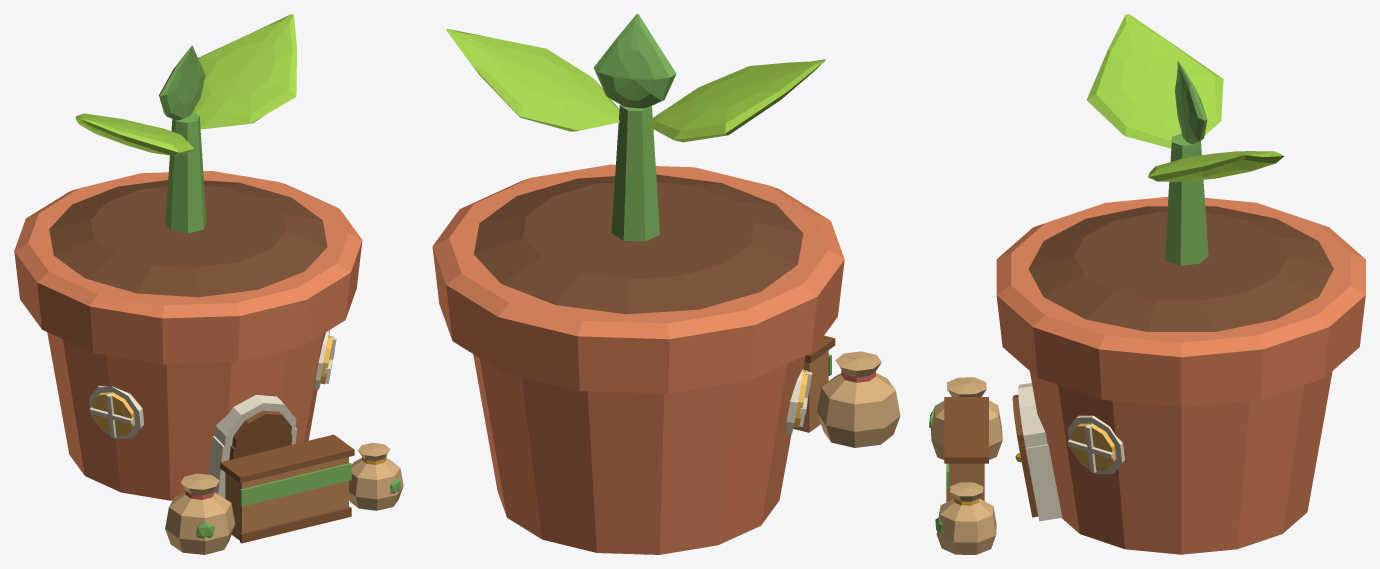
The model's file is shop_seeds.glb.
The picture shows the model from 3 angles, left to right: view 1: azimuth 30°, elevation 25°; view 2: azimuth 150°, elevation 25°; view 3: azimuth 270°, elevation 25°; orthographic projection. The views are drawn at different scales.
Visible parts, largest first — view 1: shop_seeds, counter; view 2: shop_seeds, counter; view 3: shop_seeds, counter.
Part boxes in pixels (box(x1,y1,x2,y2)): shop_seeds: box(14, 14, 403, 554); counter: box(220, 434, 354, 543); shop_seeds: box(432, 14, 900, 554); counter: box(793, 335, 835, 432); shop_seeds: box(929, 14, 1365, 554); counter: box(944, 397, 988, 501).
Size of the model in its own units: 4.24 by 5.46 by 4.89.
